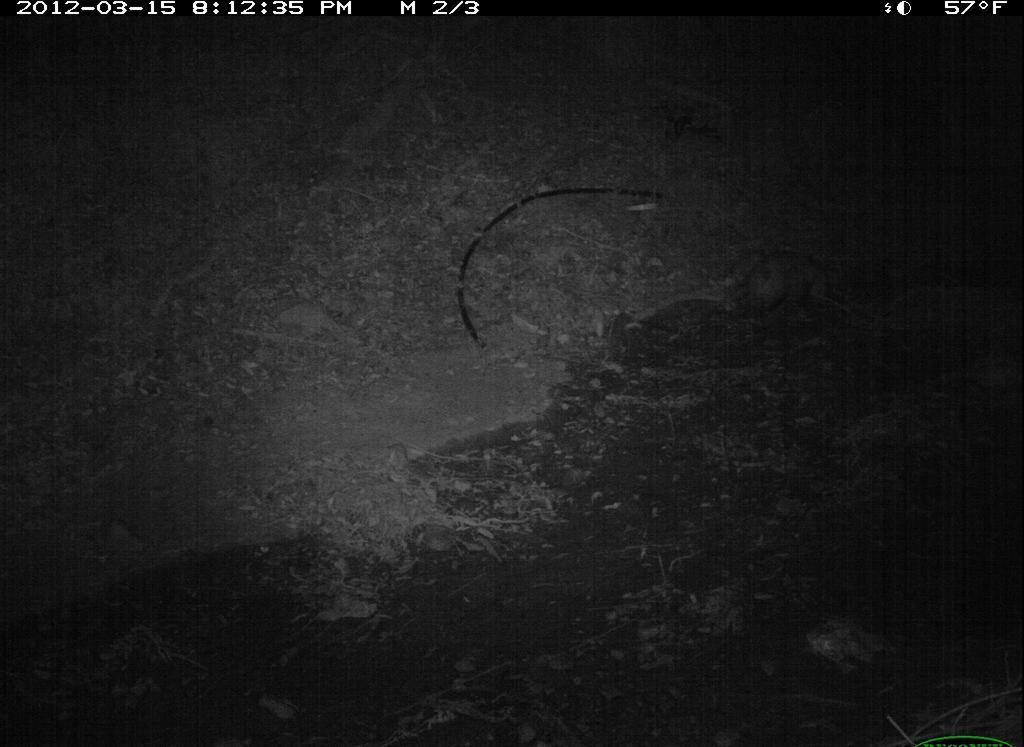opossum: (707, 244, 838, 344)
